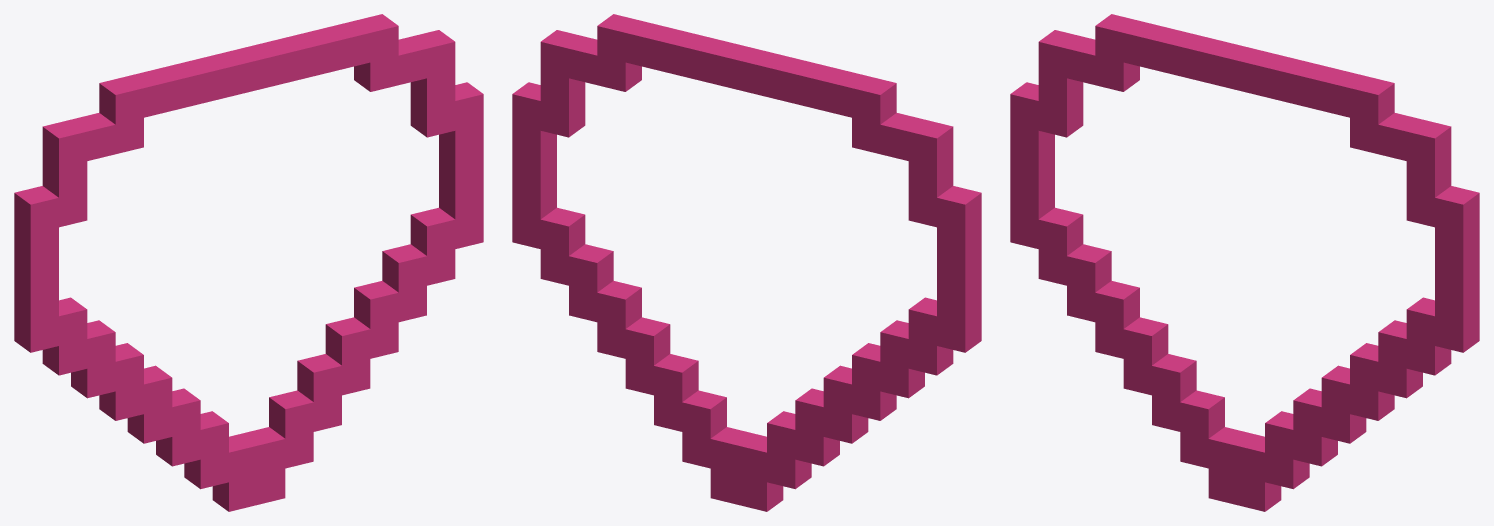
File: HP_Empty.obj
3 renders of one model, left to right at view 1: azimuth 30°, elevation 25°; view 2: azimuth 150°, elevation 25°; view 3: azimuth 330°, elevation 25°, orthographic.
Bounding box in the file's own units: 16 × 15 × 1.
1 material, 1 textured.
